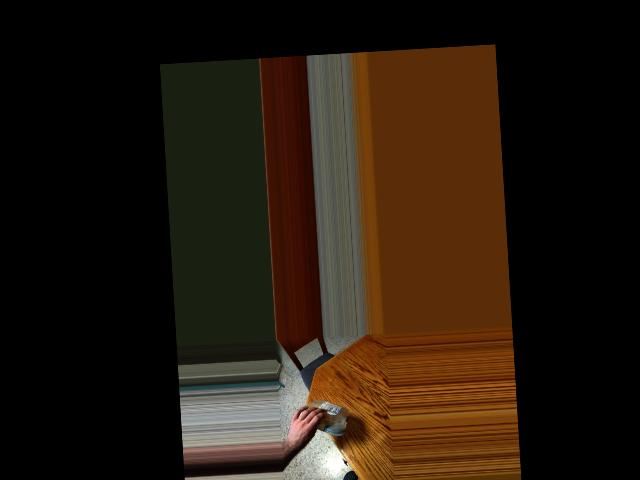cheese: (305, 401, 344, 432)
